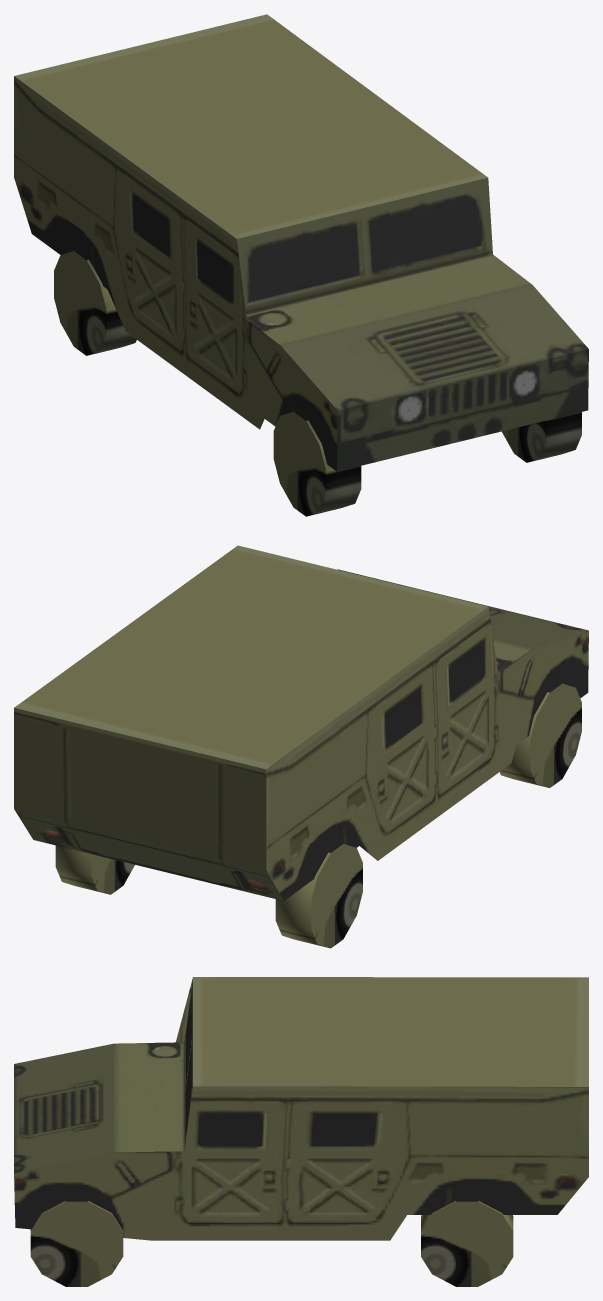
File: Humvee_Extended.DAE
The picture shows the model from 3 angles, top to bottom: view 1: azimuth 30°, elevation 25°; view 2: azimuth 150°, elevation 25°; view 3: azimuth 270°, elevation 25°; orthographic projection. The views are drawn at different scales.
Visible parts, largest first — view 1: _1092_Humvee_Extended; view 2: _1092_Humvee_Extended; view 3: _1092_Humvee_Extended.
Part boxes in pixels (box(x1,y1,x2,y2)): _1092_Humvee_Extended: box(14, 14, 588, 516); _1092_Humvee_Extended: box(14, 545, 588, 948); _1092_Humvee_Extended: box(14, 977, 588, 1286).
Bounding box in the file's own units: 91.73 × 76.83 × 201.
Materials: 1 (1 with a texture image).
